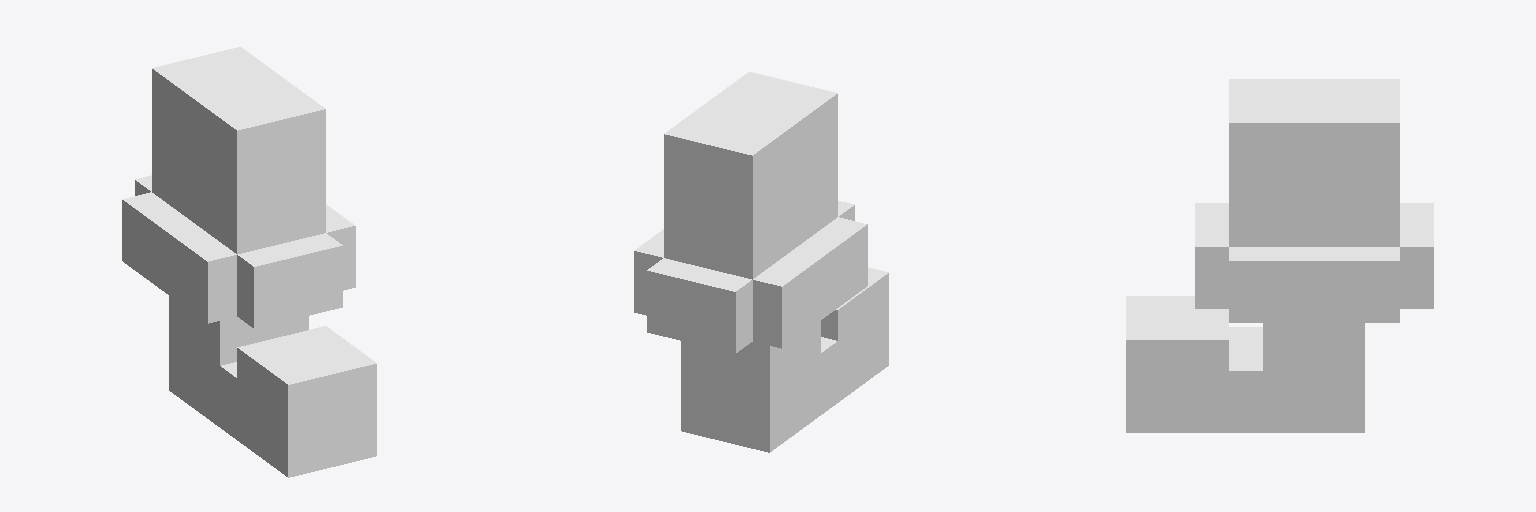
The model's file is Technar-3.obj.
The picture shows the model from 3 angles: view 1: azimuth 30°, elevation 25°; view 2: azimuth 150°, elevation 25°; view 3: azimuth 270°, elevation 25°; orthographic projection.
Parts seen in each view (by area): view 1: object 1; view 2: object 1; view 3: object 1.
Part boxes in pixels (bbox=[...]): object 1: bbox=[122, 47, 376, 477]; object 1: bbox=[634, 72, 888, 452]; object 1: bbox=[1126, 79, 1433, 432].
Size of the model in its own units: 0.5 by 1 by 0.9.